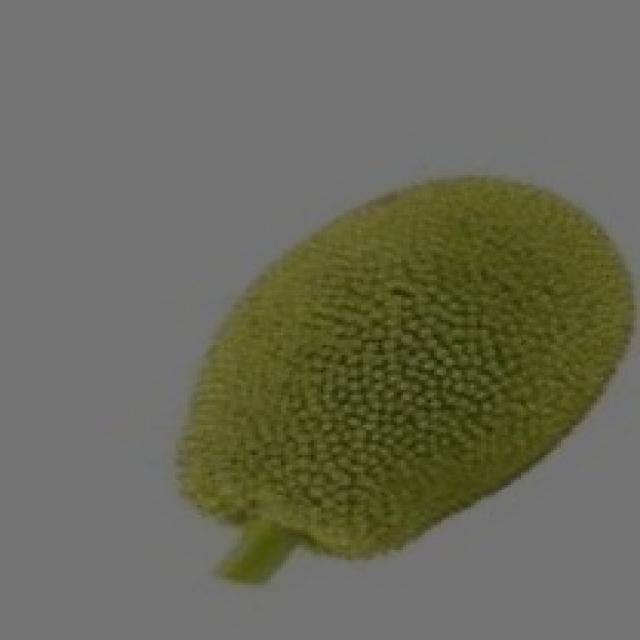Fruit: (203, 160, 637, 515)
